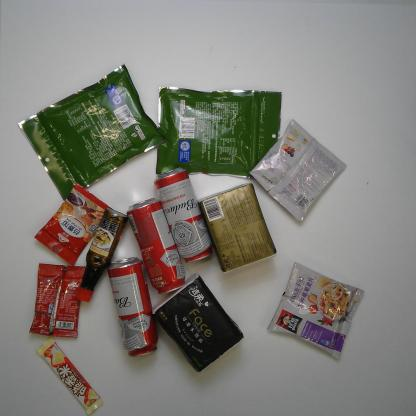Alcohol: (153, 166, 214, 264), (126, 196, 186, 295), (107, 256, 159, 358)
Chocolate: (34, 338, 105, 416)
Dried Fruit: (16, 63, 169, 203), (155, 85, 283, 182)
Instant Drink: (249, 117, 348, 222), (266, 260, 364, 360), (34, 182, 115, 268), (28, 262, 87, 338)
Seasoner: (72, 207, 129, 302)
Tissue: (150, 270, 245, 374), (199, 181, 278, 274)
